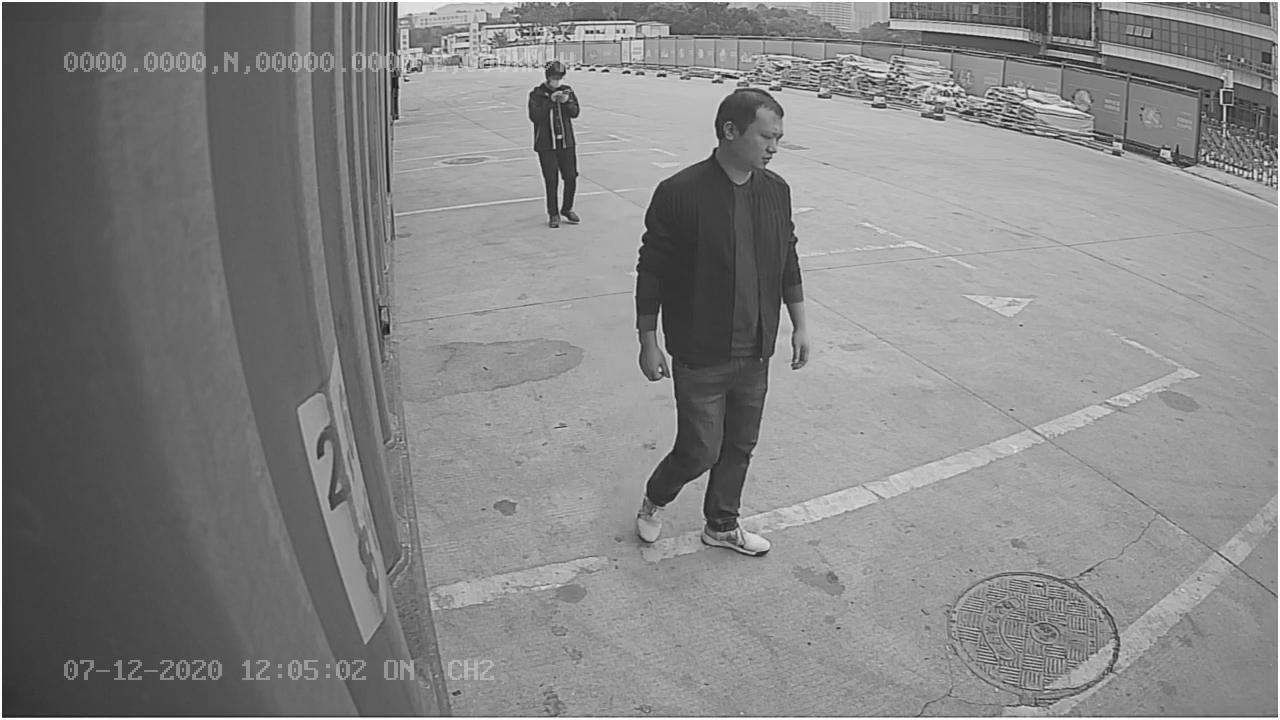person: (634, 85, 812, 561)
